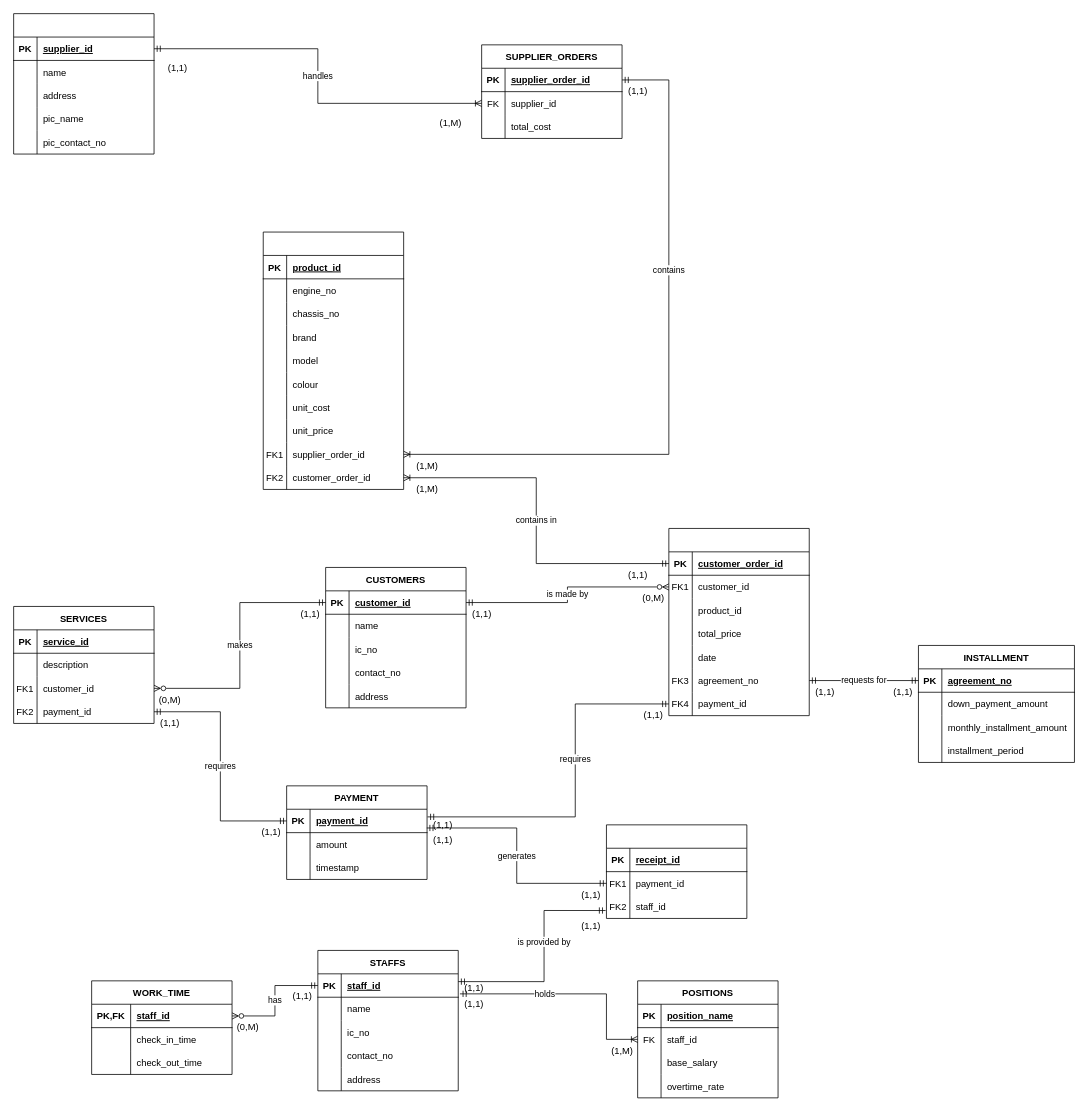
The diagram is 1088 pixels wide and 1112 high, and some of its shapes have lost their labels. Here are the shapes that lost their labels. From the top down, the box of each, then its label:
(13, 13, 154, 154): SUPPLIERS
(262, 231, 404, 489): PRODUCTS
(668, 528, 809, 716): CUSTOMER_ORDERS
(606, 824, 747, 918): RECEIPTS
